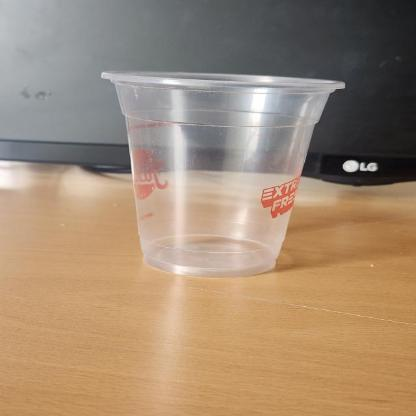Plastic Cup: (99, 67, 349, 280)
